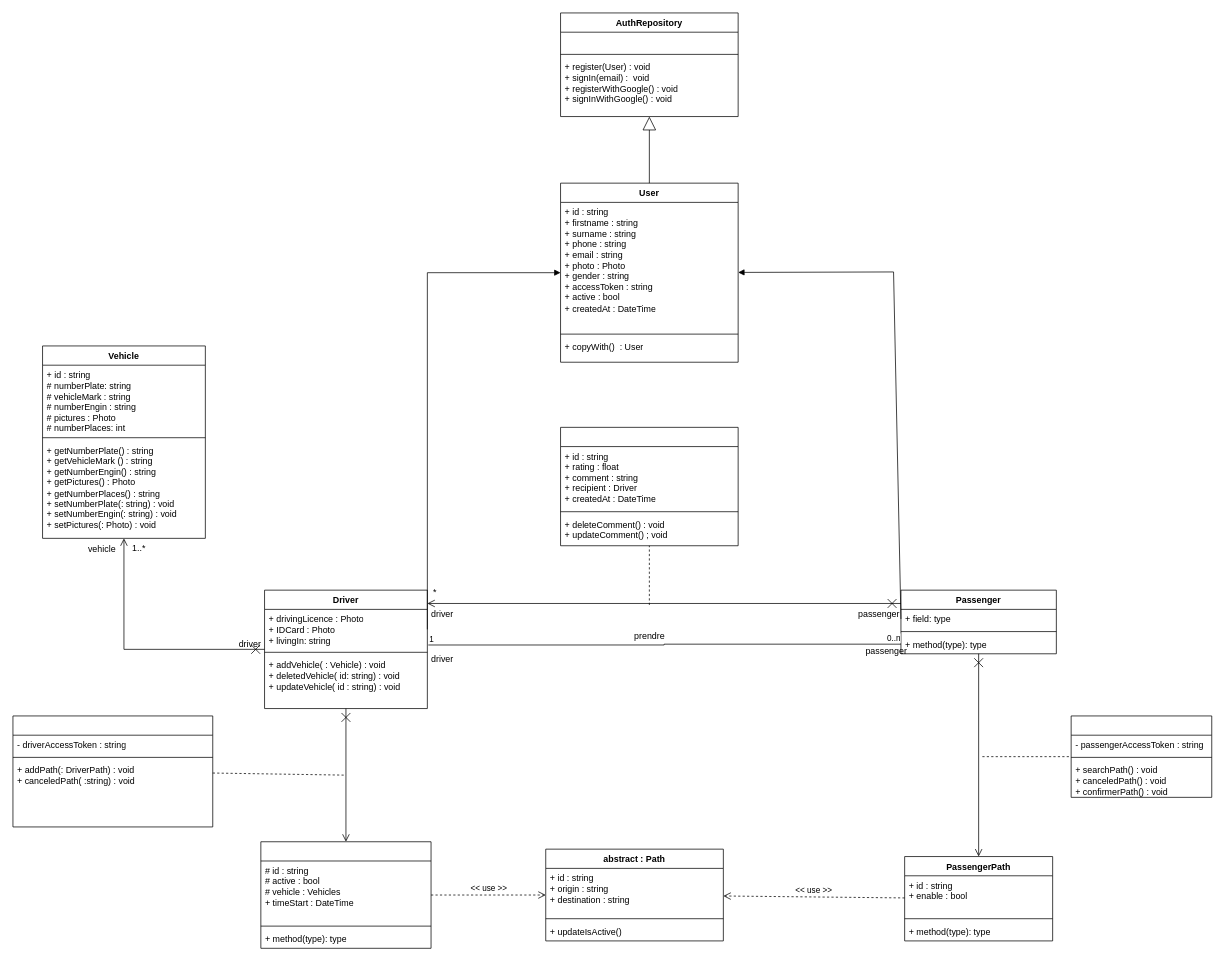
This 1225x963 diagram has some shape labels left out. Each missing label, with the box of its shape:
DriverAction: (12, 715, 213, 827)
DriverPath: (260, 841, 431, 948)
PassengerAction: (1070, 715, 1212, 797)
RatingAndComment: (560, 427, 738, 546)
